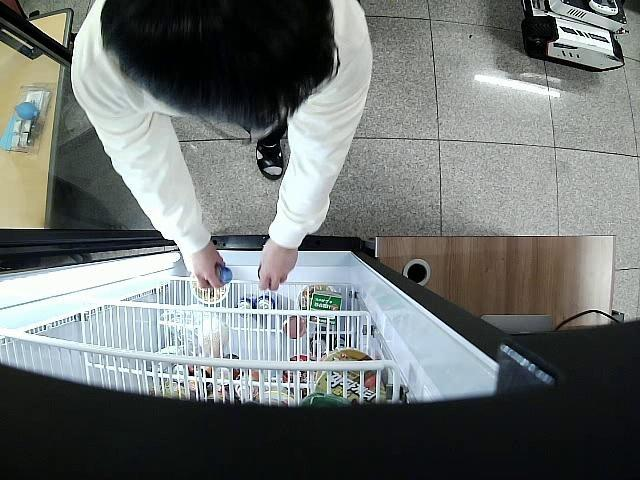15_letsbe: (216, 264, 233, 283)
